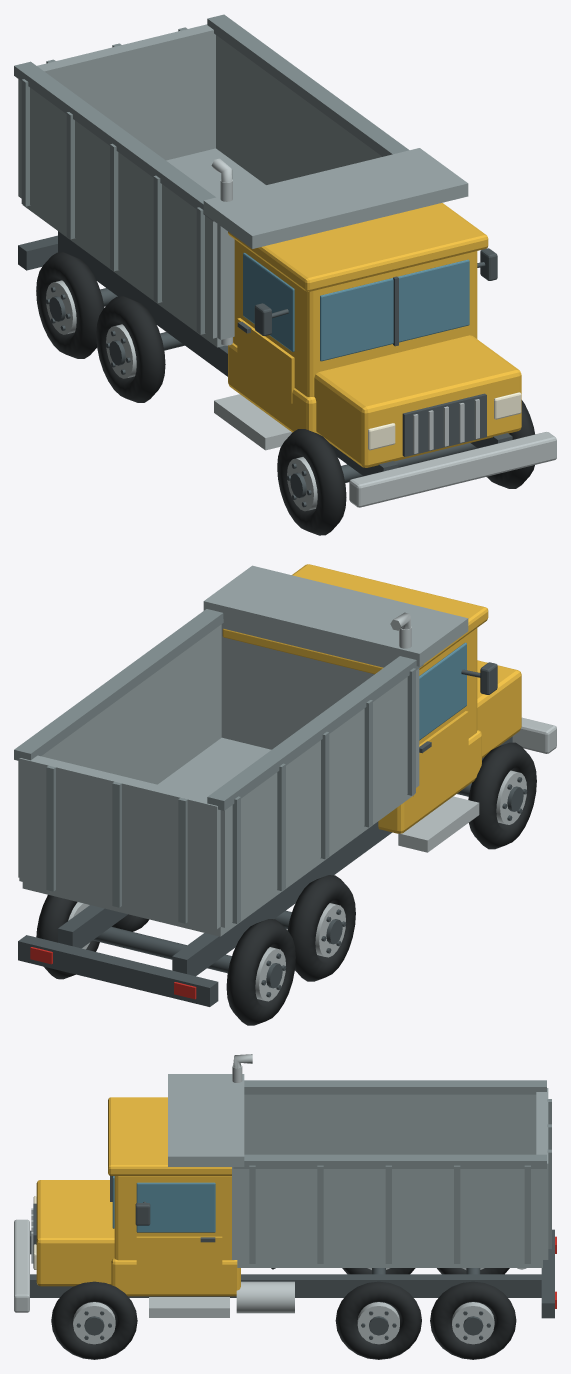
File: truck_dump.glb
3 renders of one model, top to bottom at view 1: azimuth 30°, elevation 25°; view 2: azimuth 150°, elevation 25°; view 3: azimuth 270°, elevation 25°, orthographic. The views are drawn at different scales.
Parts seen in each view (by area): view 1: Dump_Bed_Left_Side, Dump_Truck_Hood, Dump_Bed_Tailgate, Dump_Bed_Cab_Overhang, Dump_Bed_Right_Side, Dump_Truck_Cab_Roof, Dump_Truck_Windshield, Dump_Truck_Cabin, Dump_Truck_Front_Bumper, Dump_Bed_Top_Rail_-1, Dump_Bed_Top_Rail_1, Dump_Truck_Left_Wheel_0_Tire (+21 smaller); view 2: Dump_Bed_Tailgate, Dump_Bed_Left_Side, Dump_Bed_Right_Side, Dump_Bed_Cab_Overhang, Dump_Bed_Front_Wall, Dump_Bed_Floor, Dump_Bed_Top_Rail_1, Dump_Bed_Top_Rail_-1, Dump_Truck_Rear_Bumper, Dump_Truck_Cab_Roof, Dump_Truck_Chassis_Rail_-0.78, Dump_Truck_Left_Wheel_2_Tire (+23 smaller); view 3: Dump_Bed_Right_Side, Dump_Bed_Left_Side, Dump_Truck_Hood, Dump_Bed_Cab_Overhang, Dump_Truck_Chassis_Rail_0.78, Dump_Truck_Cab_Roof, Dump_Bed_Top_Rail_-1, Dump_Bed_Top_Rail_1, Dump_Truck_Cabin, Dump_Truck_Right_Wheel_0_Tire, Dump_Truck_Right_Wheel_2_Tire, Dump_Truck_Right_Wheel_1_Tire (+19 smaller).
Part boxes in pixels (box(x1,y1,x2,y2)): Dump_Bed_Left_Side: box(18, 79, 217, 338); Dump_Truck_Hood: box(314, 335, 521, 467); Dump_Bed_Tailgate: box(37, 24, 215, 160); Dump_Bed_Cab_Overhang: box(203, 148, 468, 248); Dump_Bed_Right_Side: box(216, 35, 382, 184); Dump_Truck_Cab_Roof: box(228, 203, 488, 291); Dump_Truck_Windshield: box(320, 259, 469, 361); Dump_Truck_Cabin: box(233, 239, 477, 396); Dump_Truck_Front_Bumper: box(349, 432, 556, 507); Dump_Bed_Top_Rail_-1: box(14, 61, 215, 221); Dump_Bed_Top_Rail_1: box(207, 14, 409, 156); Dump_Truck_Left_Wheel_0_Tire: box(277, 429, 346, 535); Dump_Bed_Tailgate: box(19, 755, 220, 929); Dump_Bed_Left_Side: box(220, 668, 419, 927); Dump_Bed_Right_Side: box(18, 624, 221, 877); Dump_Bed_Cab_Overhang: box(203, 565, 468, 666); Dump_Bed_Front_Wall: box(221, 619, 393, 749); Dump_Bed_Floor: box(22, 737, 414, 936); Dump_Bed_Top_Rail_1: box(14, 609, 223, 760); Dump_Bed_Top_Rail_-1: box(207, 656, 423, 810); Dump_Truck_Rear_Bumper: box(18, 935, 218, 1006); Dump_Truck_Cab_Roof: box(222, 564, 488, 674); Dump_Truck_Chassis_Rail_-0.78: box(172, 736, 512, 976); Dump_Truck_Left_Wheel_2_Tire: box(226, 919, 295, 1025); Dump_Bed_Right_Side: box(237, 1169, 542, 1261); Dump_Bed_Left_Side: box(244, 1094, 536, 1154); Dump_Truck_Hood: box(36, 1180, 114, 1286); Dump_Bed_Cab_Overhang: box(168, 1074, 244, 1166); Dump_Truck_Chassis_Rail_0.78: box(30, 1274, 541, 1297); Dump_Truck_Cab_Roof: box(108, 1097, 231, 1175); Dump_Bed_Top_Rail_-1: box(244, 1080, 546, 1094); Dump_Bed_Top_Rail_1: box(233, 1154, 546, 1168); Dump_Truck_Cabin: box(114, 1176, 234, 1260); Dump_Truck_Right_Wheel_0_Tire: box(51, 1281, 137, 1359); Dump_Truck_Right_Wheel_2_Tire: box(430, 1281, 516, 1359); Dump_Truck_Right_Wheel_1_Tire: box(335, 1281, 421, 1359).
Size of the model in its own units: 3.21 by 3.88 by 8.17.
